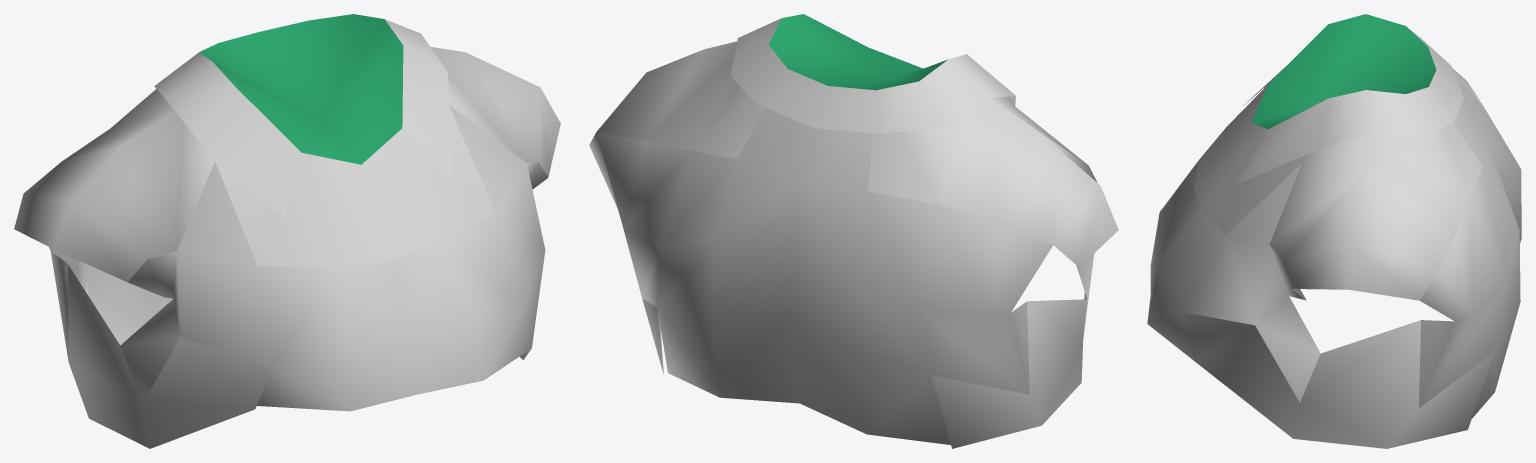
The model's file is spine2.glb.
3 renders of one model, left to right at view 1: azimuth 30°, elevation 25°; view 2: azimuth 150°, elevation 25°; view 3: azimuth 270°, elevation 25°, orthographic. The views are drawn at different scales.
Visible parts, largest first — view 1: polo-white_SPINE2; view 2: polo-white_SPINE2; view 3: polo-white_SPINE2.
Boxes of the visible parts, left/top/right/bottom form: polo-white_SPINE2: left=14, top=14, right=560, bottom=448; polo-white_SPINE2: left=589, top=14, right=1118, bottom=448; polo-white_SPINE2: left=1147, top=14, right=1521, bottom=448.
Bounding box in the file's own units: 0.4737 × 0.3067 × 0.333.
Materials: 1 (1 with a texture image).
